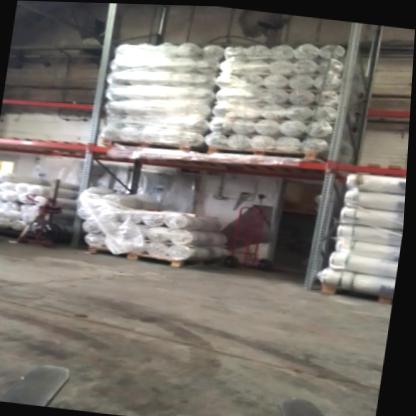vertical_damage: (304, 256, 331, 291)
